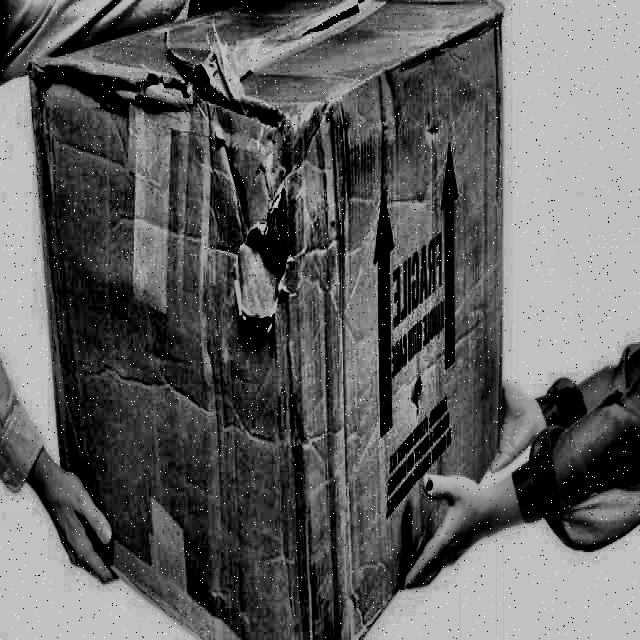box: (20, 0, 508, 639)
hole: (236, 199, 283, 339), (138, 61, 210, 120)
